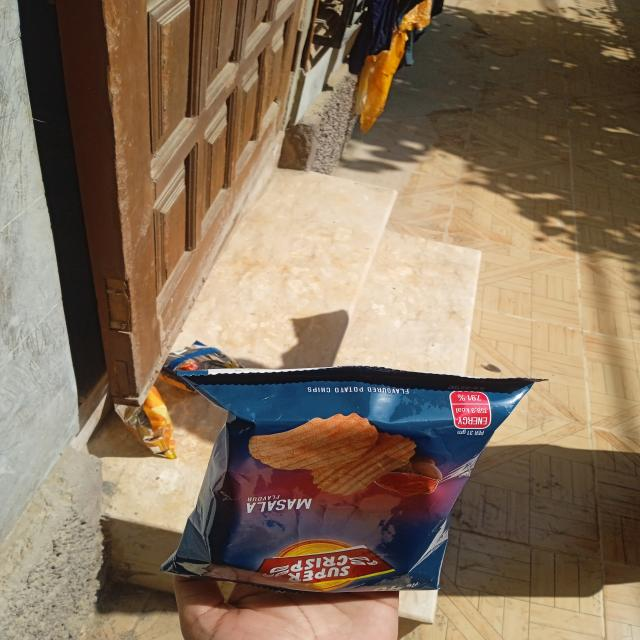Plastic: (154, 356, 546, 610)
